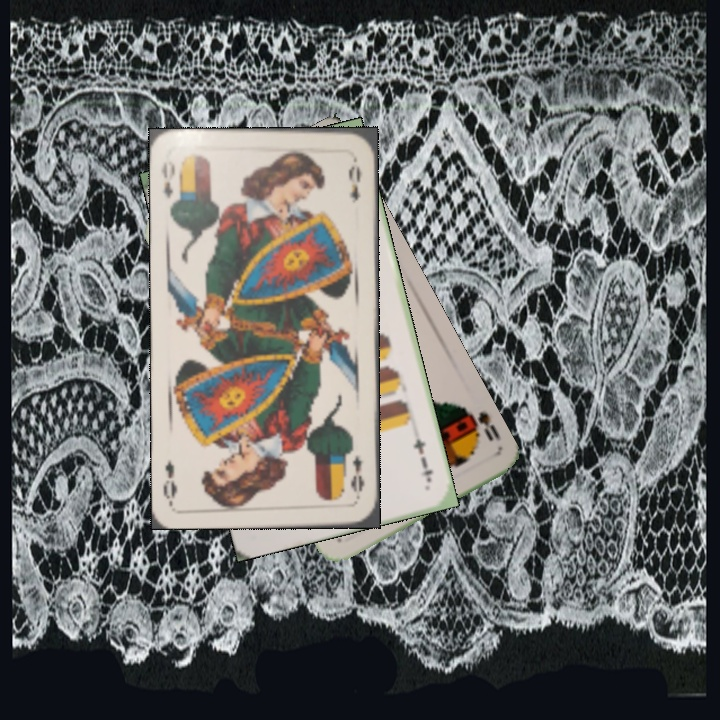E7: (409, 434, 436, 485)
EO: (346, 451, 367, 494), (157, 156, 177, 200)
SO: (457, 402, 504, 445)
